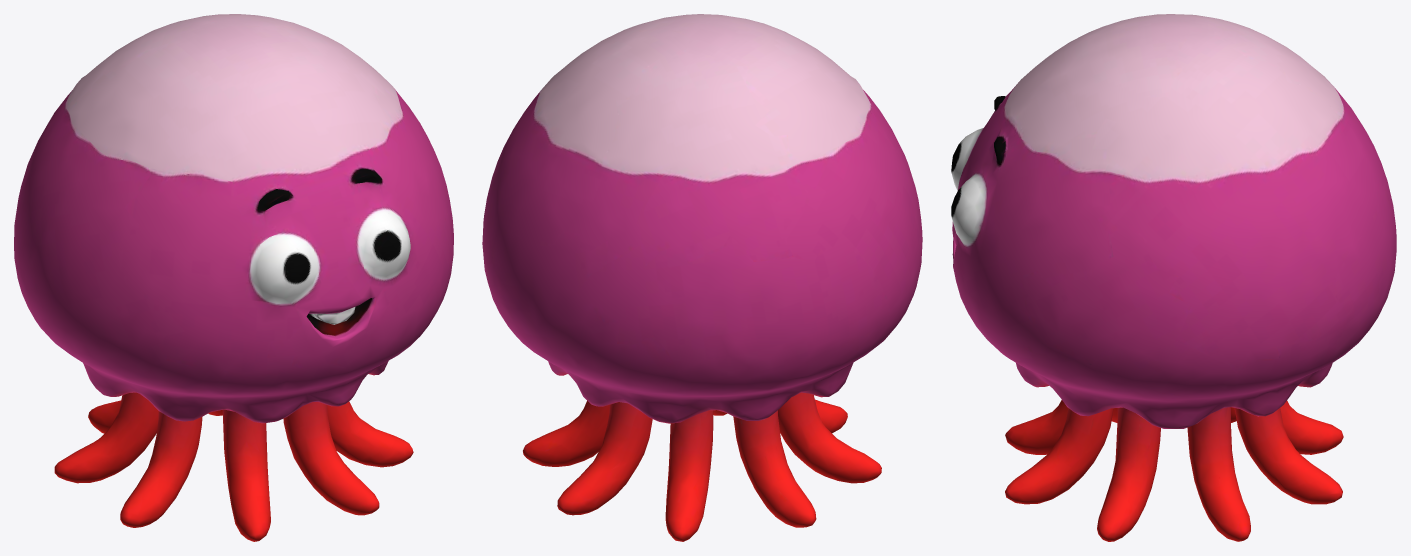
Rendered from jelly.glb.
The picture shows the model from 3 angles, left to right: view 1: azimuth 30°, elevation 25°; view 2: azimuth 150°, elevation 25°; view 3: azimuth 270°, elevation 25°; orthographic projection.
Visible parts, largest first — view 1: world; view 2: world; view 3: world.
Part boxes in pixels (bbox=[...]): world: bbox=[14, 14, 453, 541]; world: bbox=[482, 14, 922, 541]; world: bbox=[951, 14, 1396, 541].
Size of the model in its own units: 0.9075 by 0.9996 by 0.9076.
1 material, 1 textured.
